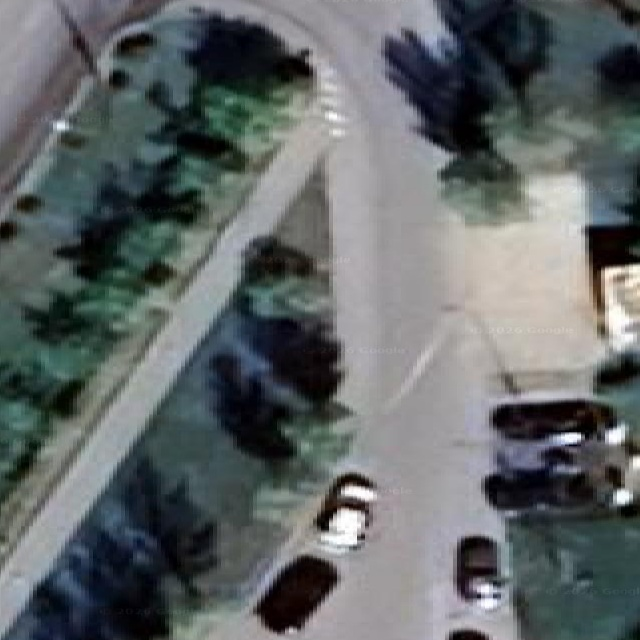car: (492, 397, 626, 446), (255, 555, 335, 632), (484, 471, 596, 515), (315, 472, 375, 552), (456, 535, 503, 607), (447, 628, 488, 639)
